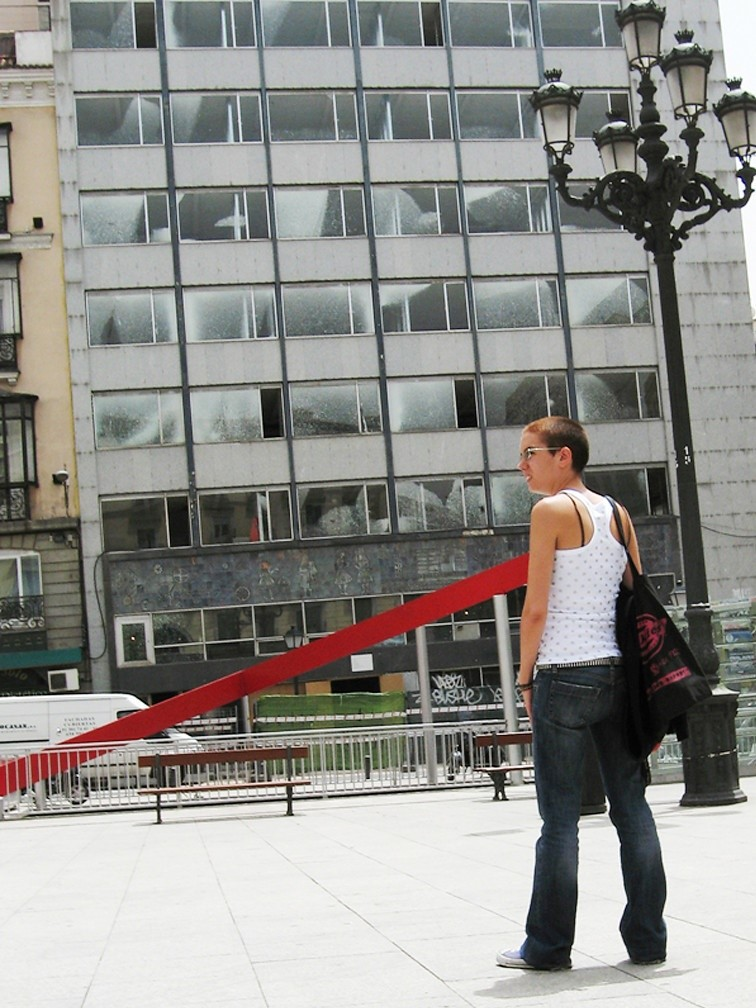face_no_mask: (514, 426, 575, 496)
